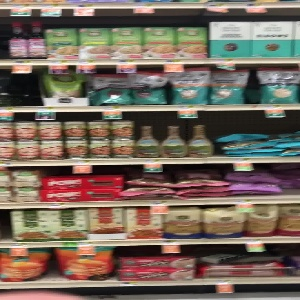void: (1, 67, 38, 108)
